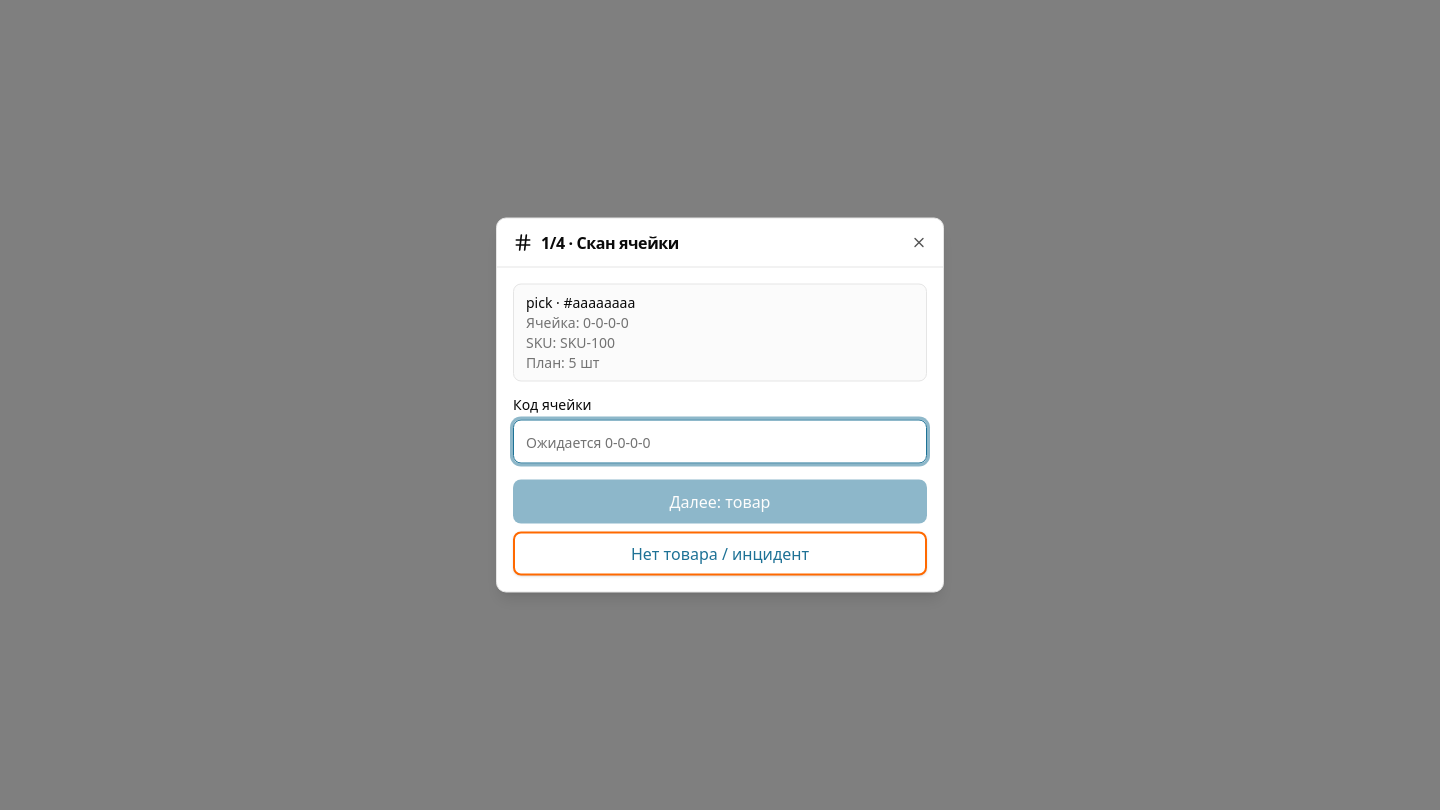
OperatorTaskScanDialog › shows mismatch when cell scan differs
The image size is (1440, 810).
Type "9-9-9-9" into the field labelled "Код ячейки". click: (720, 442)
box: [513,420,927,464]
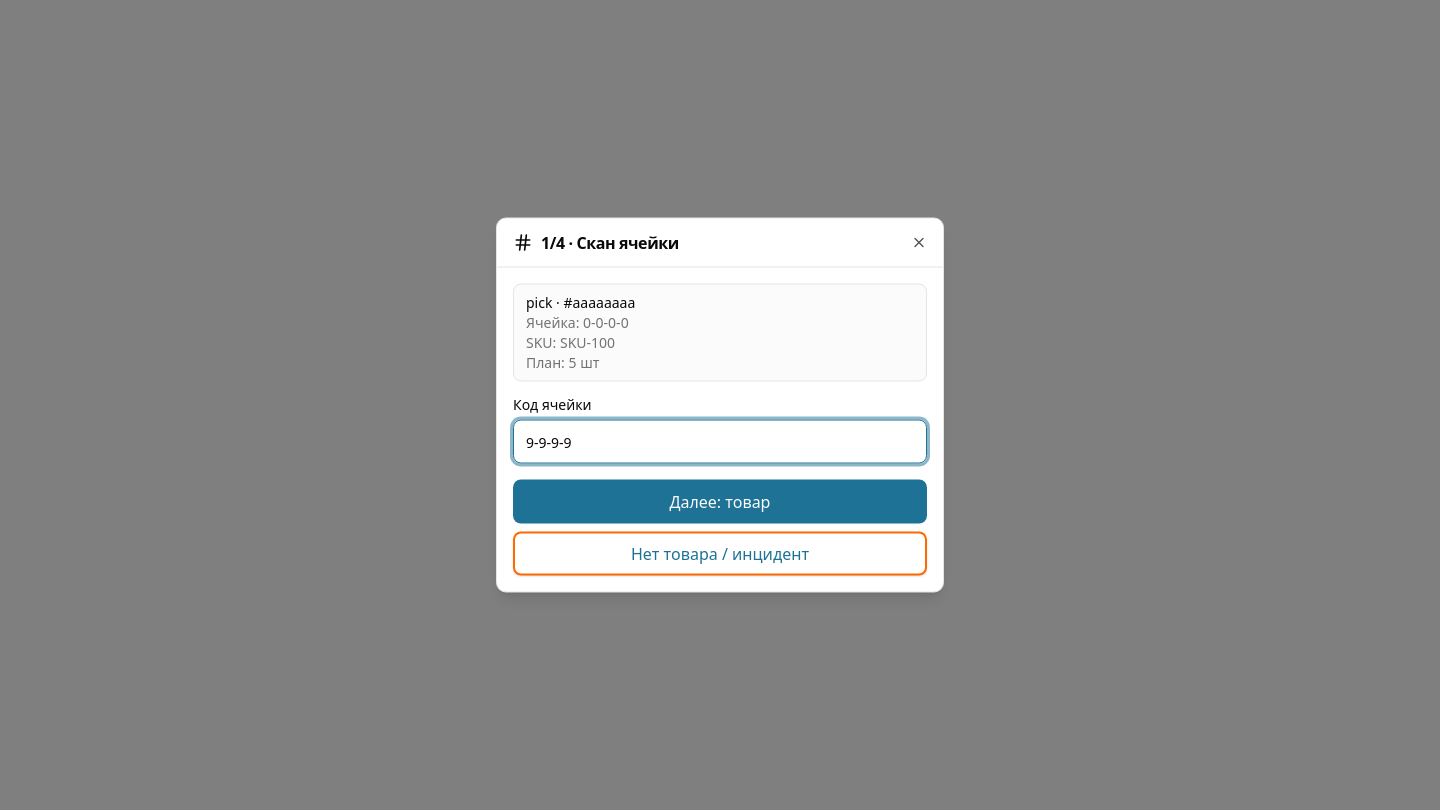
Click the button "Далее: товар". click: (720, 502)
box: [513,480,927,524]
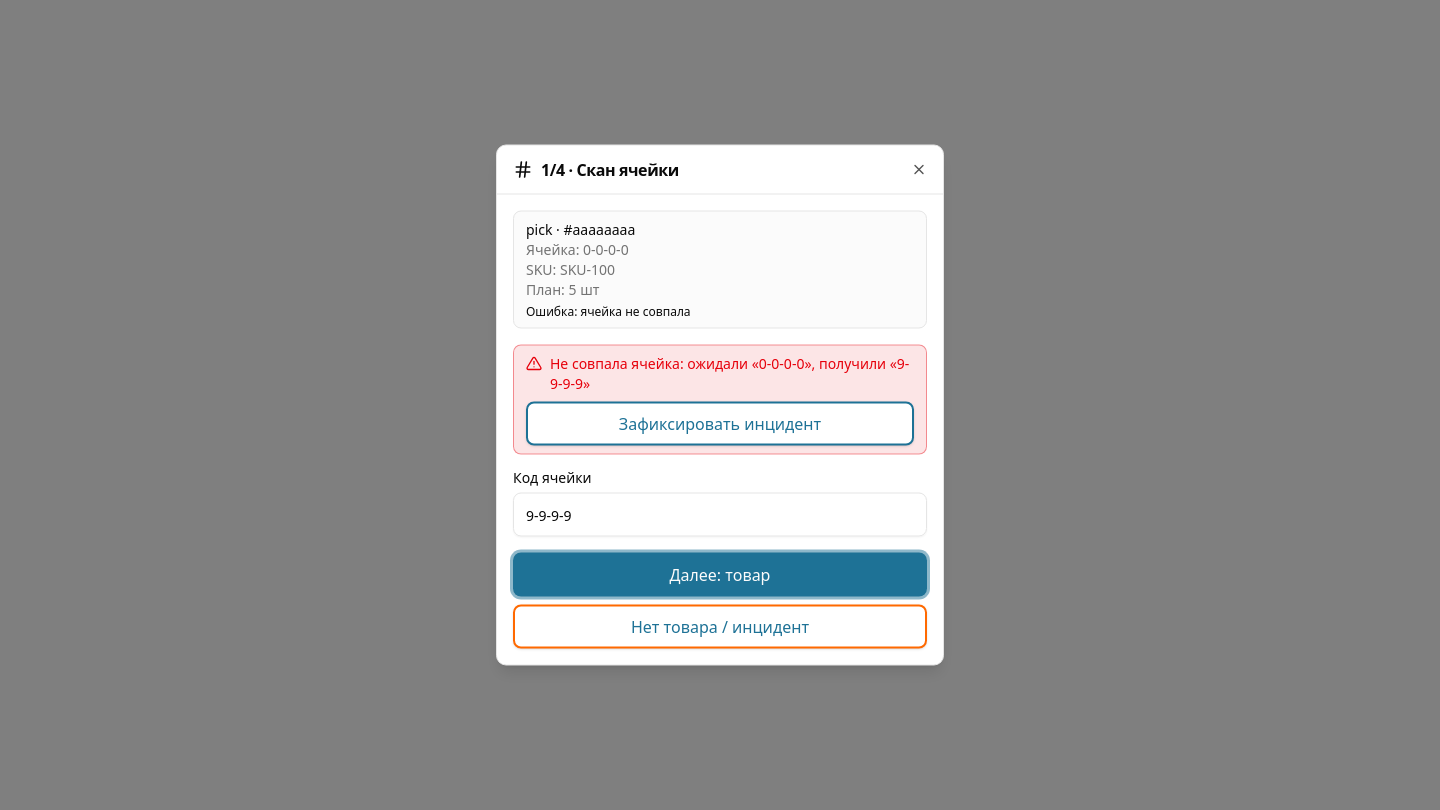
Expected: the message shows "Не совпала ячейка", [550,354,909,392]
